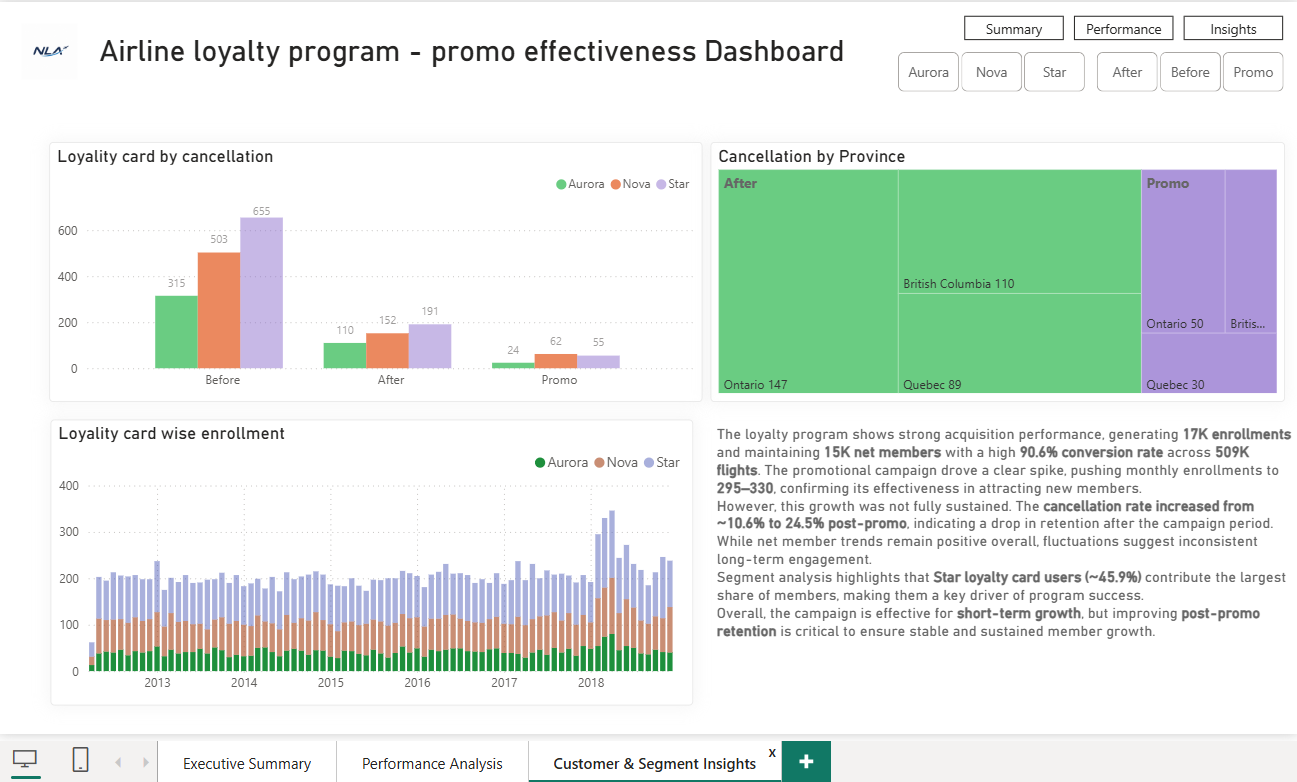

Layout of this report page (visuals, bound fields, positions):
{"tool":"powerbi","page":{"name":"Customer & Segment Insights","canvas":[1280,720],"ordinal":2},"visuals":[{"type":"image","box":[0,20.6,101.6,55.6],"z":0},{"type":"textbox","box":[94.5,25.5,772.7,47.3],"z":1000},{"type":"lineClusteredColumnComboChart","title":"Loyality card by cancellation","fields":{"Y":["metrics.total cancellation"],"Category":["Calendar.period type"],"Series":["Customer Loyalty History.Loyalty Card"]},"box":[50.7,137.5,643,255.8],"z":2000},{"type":"lineStackedColumnComboChart","title":"Loyality card wise enrollment","fields":{"Category":["Customer Loyalty History.Enrollment date"],"Series":["Customer Loyalty History.Loyalty Card"],"Y":["Count(Customer Loyalty History.Loyalty Number)"]},"box":[51.2,411.2,632.5,281.2],"z":3000},{"type":"treemap","title":"Cancellation by  Province","fields":{"Group":["Calendar.period type"],"Details":["Customer Loyalty History.Province"],"Values":["metrics.total cancellation"]},"box":[702.1,137.5,565.8,255.8],"z":4000},{"type":"textbox","box":[703.4,411.4,576.7,281.1],"z":5000},{"type":"bookmarkNavigator","box":[951.4,13.5,316.3,24.6],"z":6000},{"type":"advancedSlicerVisual","fields":{"Values":["Calendar.period type"]},"box":[1081.8,49.2,184.6,39.4],"z":7000},{"type":"advancedSlicerVisual","fields":{"Values":["Customer Loyalty History.Loyalty Card"]},"box":[886.2,49.2,184.6,39.4],"z":8000}]}

Visuals, with their boxes on the page's 1280x720 design canvas (x1, y1, x2, y2). These are canvas units, not pixel positions in the 1297x782 screenshot, which may show the page scaled, cropped or inside an application window:
image: crop(0, 21, 102, 76)
textbox: crop(94, 26, 867, 73)
"Loyality card by cancellation" lineClusteredColumnComboChart: crop(51, 138, 694, 393)
"Loyality card wise enrollment" lineStackedColumnComboChart: crop(51, 411, 684, 692)
"Cancellation by  Province" treemap: crop(702, 138, 1268, 393)
textbox: crop(703, 411, 1280, 692)
bookmarkNavigator: crop(951, 14, 1268, 38)
advancedSlicerVisual - Calendar.period type: crop(1082, 49, 1266, 89)
advancedSlicerVisual - Customer Loyalty History.Loyalty Card: crop(886, 49, 1071, 89)
